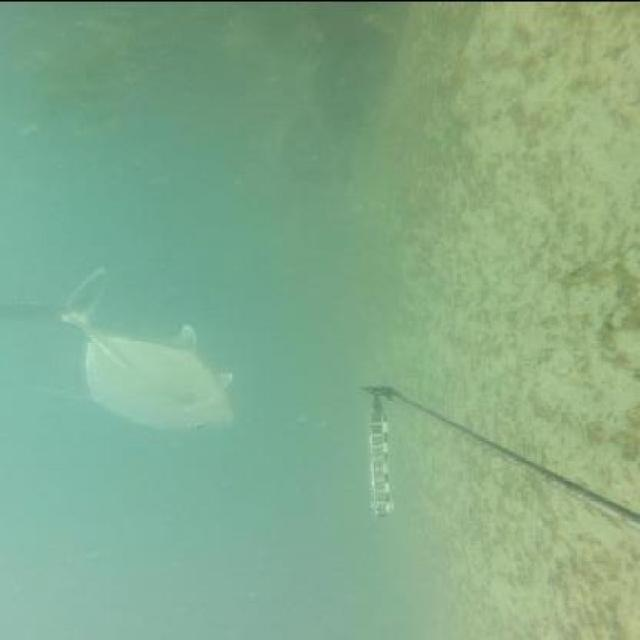Caranx: (8, 264, 244, 430)
